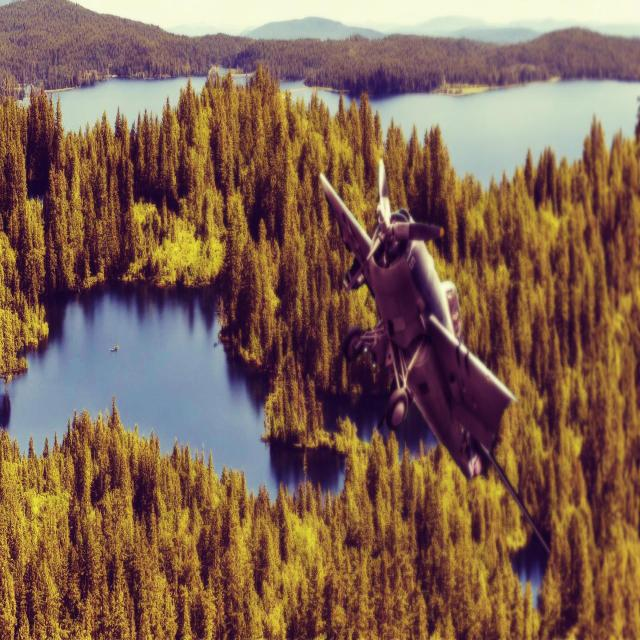airplane: (318, 158, 551, 556)
